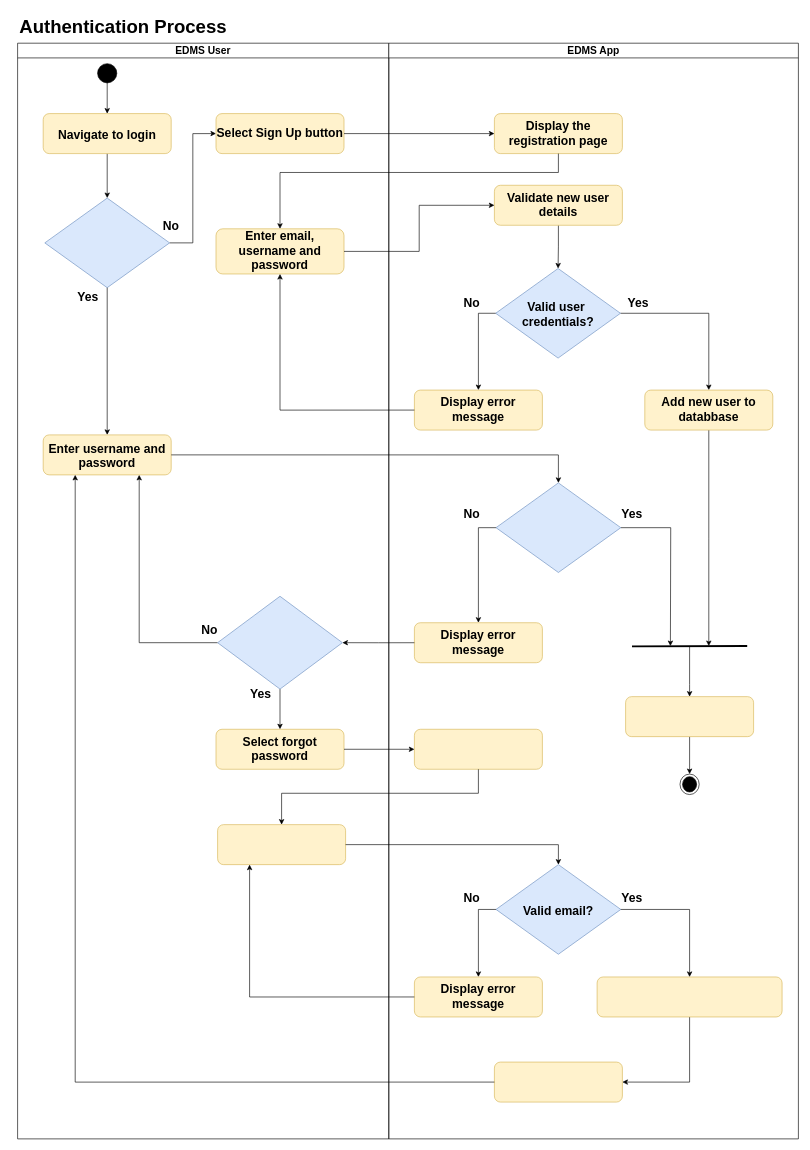
Image size: 810x1150. Some labels were removed from this diagram. The centre of each missing label's shape, as x and y in pixels:
Display check email message: the point at 558,1081
Display Dashboard: the point at 689,716
Display the forgot password page: the point at 478,749
Enter email address: the point at 281,844
Forgot password?: the point at 279,642
Generate new pasword and send account details to email: the point at 689,996
Have an account?: the point at 107,242
User exists in database?: the point at 558,527
